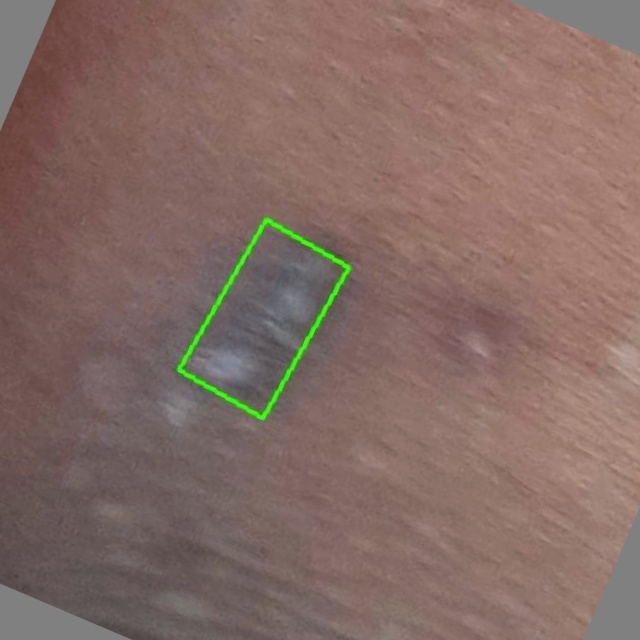Scabies: (180, 219, 349, 417)
